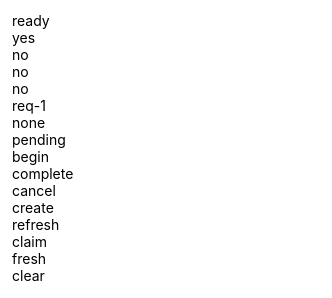
ParentalConsentProvider claim intent › routes approved bound to recovery and never createAccount
The width and height of the screenshot is (332, 298).
Expected: the text with test id "hydrate" reads "ready", [12,12,50,29]
Click the text with test id "refresh" at (36,224), box [12,216,59,233]
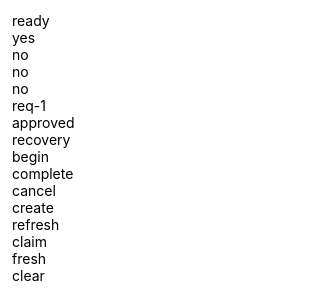
Now the text with test id "destination" reads "recovery", box [12,131,70,148]
